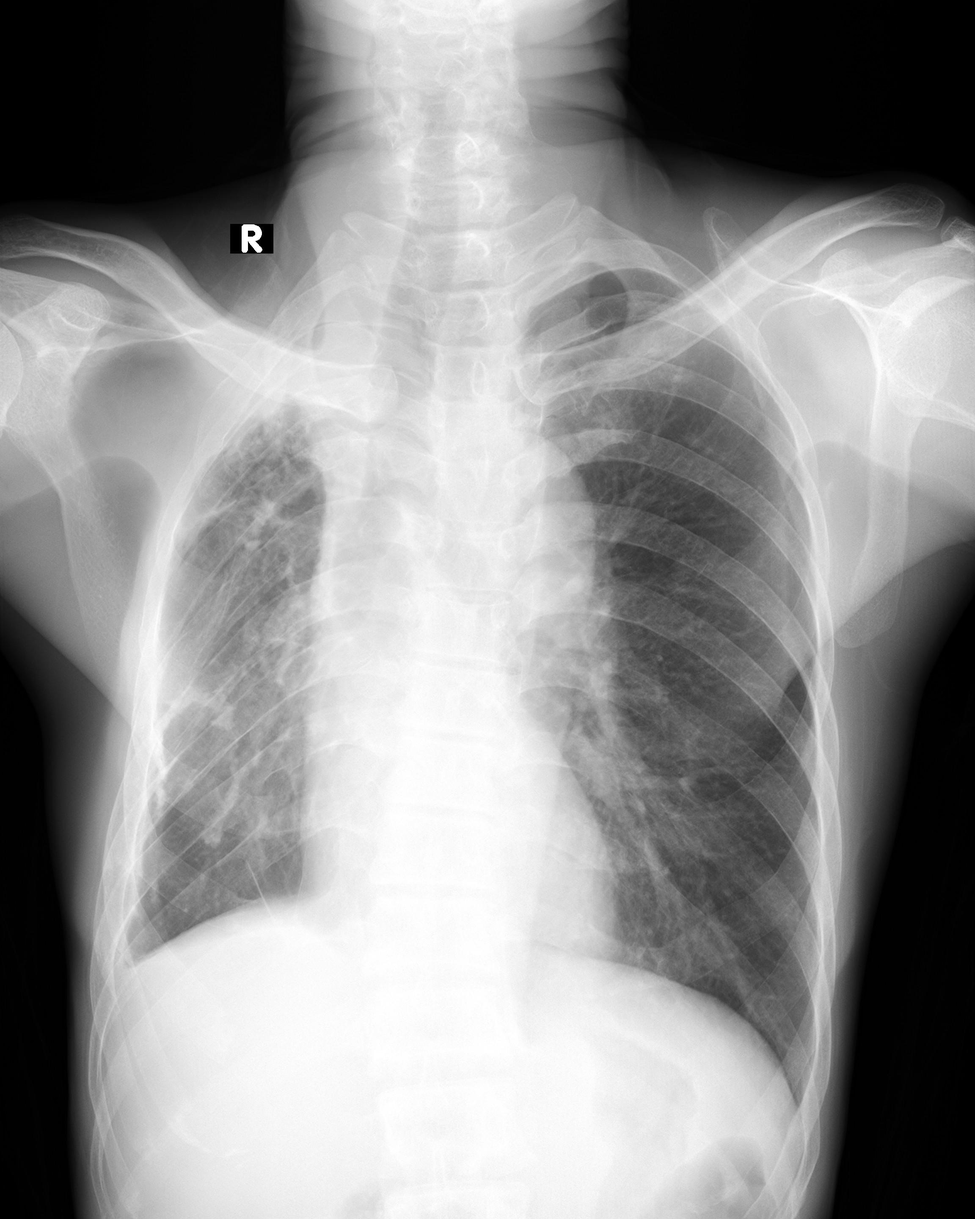Aortic enlargement: (468, 430, 597, 626)
Pleural thickening: (195, 281, 344, 552), (111, 661, 166, 909), (107, 894, 159, 1002)
Pulmonary fibrosis: (212, 389, 321, 801), (655, 347, 694, 385)
